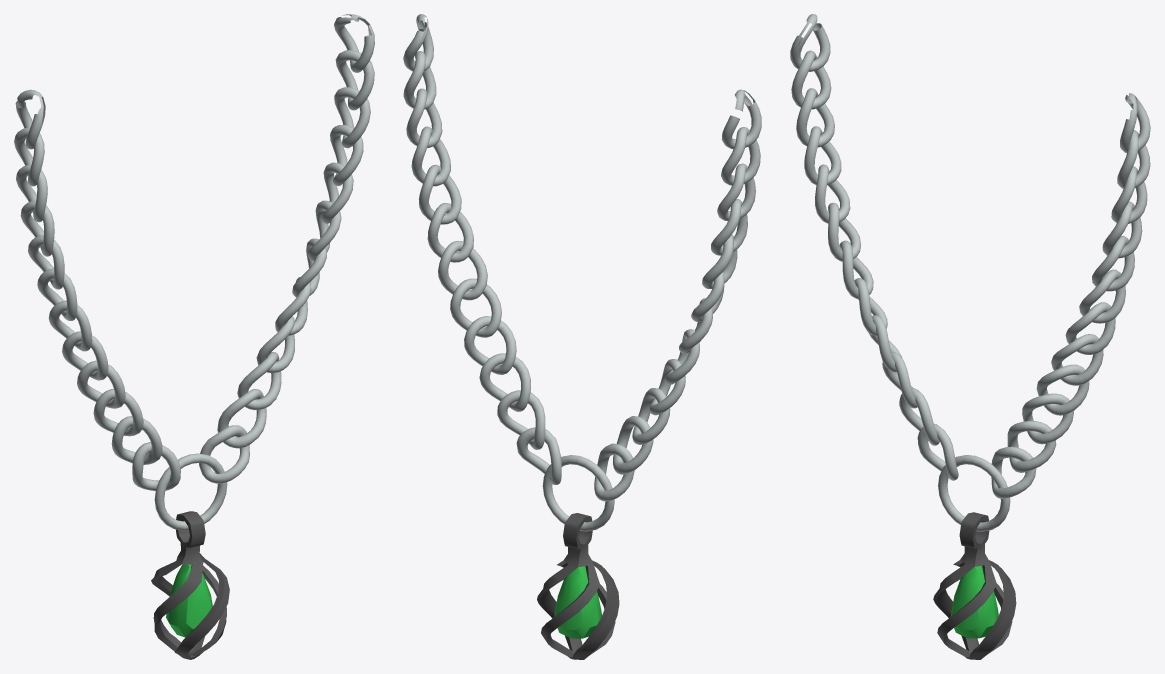
The model's file is gemstone_necklace.glb.
3 views of the same model, side by side, from view 1: azimuth 30°, elevation 25°; view 2: azimuth 150°, elevation 25°; view 3: azimuth 330°, elevation 25° (orthographic).
Visible parts, largest first — view 1: chain_BezierCircle_2, GemCage_0, Gem_1; view 2: chain_BezierCircle_2, GemCage_0, Gem_1; view 3: chain_BezierCircle_2, GemCage_0, Gem_1.
Part boxes in pixels (x1,y1,x2,y2): chain_BezierCircle_2: (14,14,374,530); GemCage_0: (151,511,229,659); Gem_1: (166,564,212,637); chain_BezierCircle_2: (403,14,761,531); GemCage_0: (537,513,619,659); Gem_1: (554,566,601,638); chain_BezierCircle_2: (790,14,1150,531); GemCage_0: (933,512,1016,659); Gem_1: (950,565,998,638).
Size of the model in its own units: 0.1172 by 0.1965 by 0.0264.
Materials: 3 (1 with a texture image).
